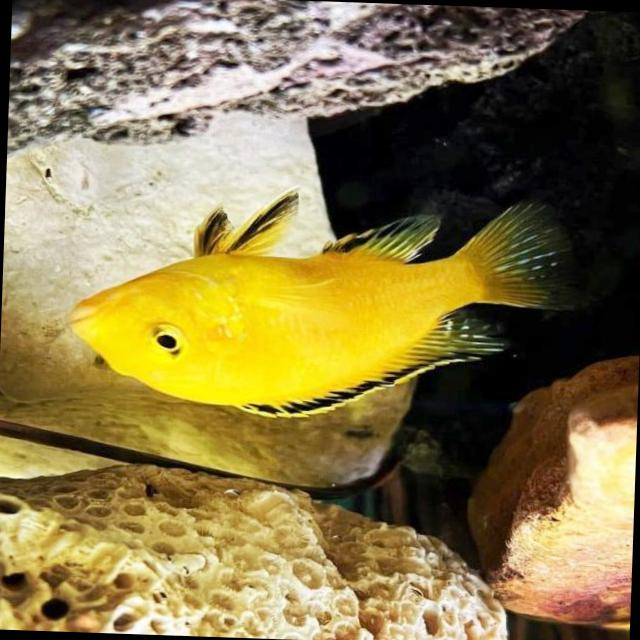YellowCichlid: (44, 157, 578, 422)
